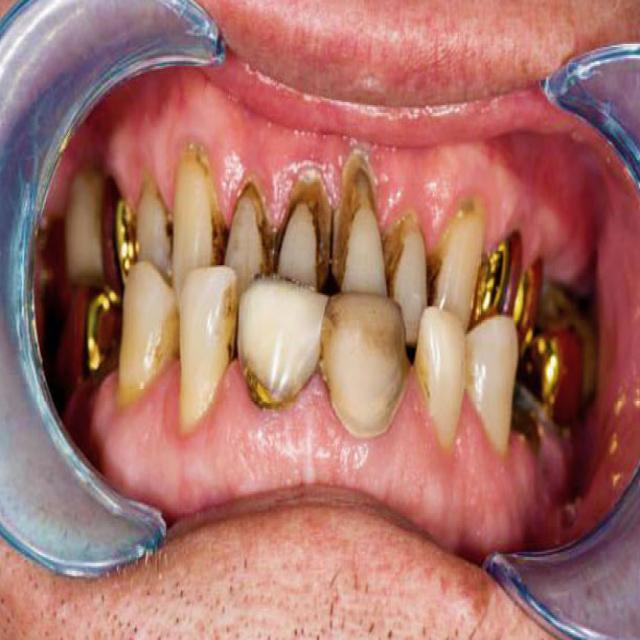caries: (156, 204, 181, 262)
